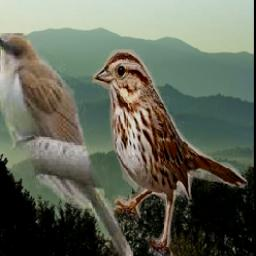Cuckoo: (0, 34, 133, 256)
Sparrow: (93, 49, 249, 256)
